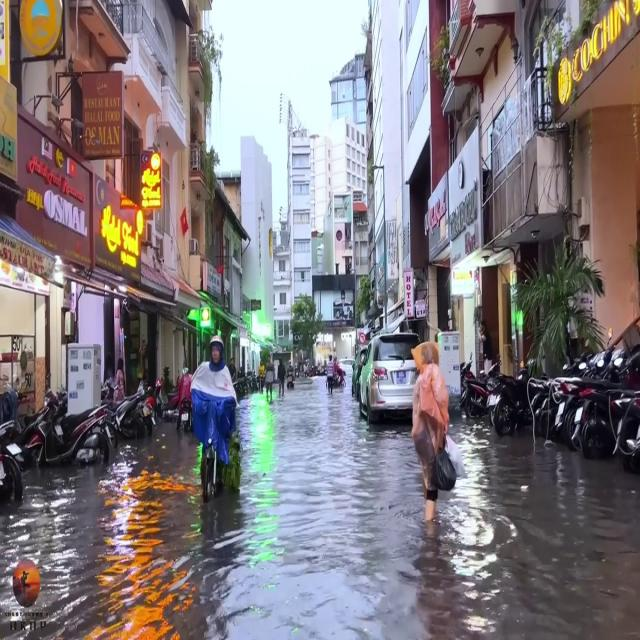bien_xanh: (396, 371, 406, 384)
